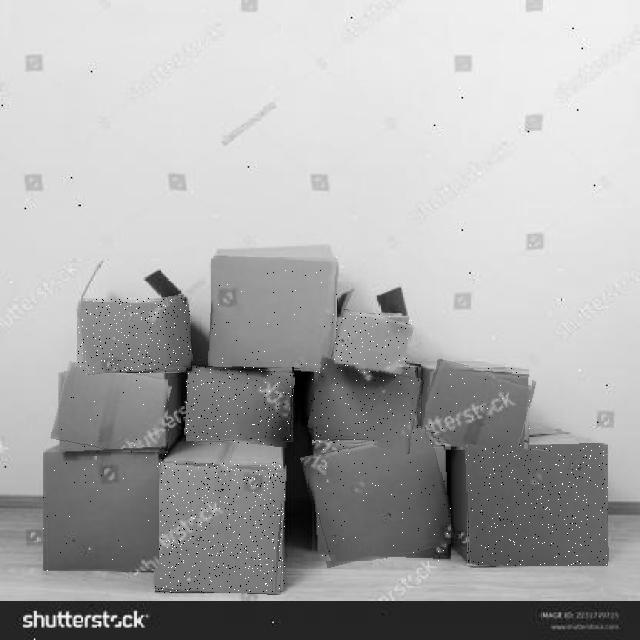BoxFace: (306, 433, 451, 561), (466, 444, 608, 566), (155, 461, 285, 593), (210, 257, 338, 371), (43, 452, 159, 571), (54, 367, 168, 459), (425, 364, 533, 450), (311, 364, 421, 445), (78, 298, 191, 373), (186, 367, 294, 445), (334, 313, 412, 376)
